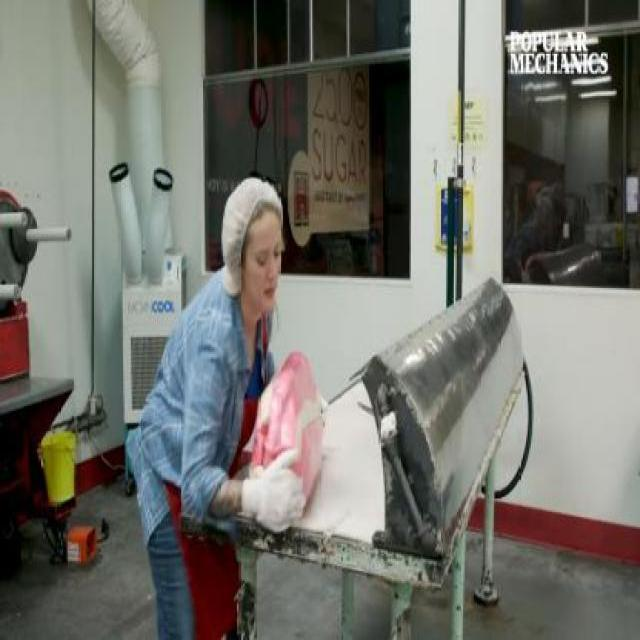gloved_hand: (234, 453, 311, 546)
